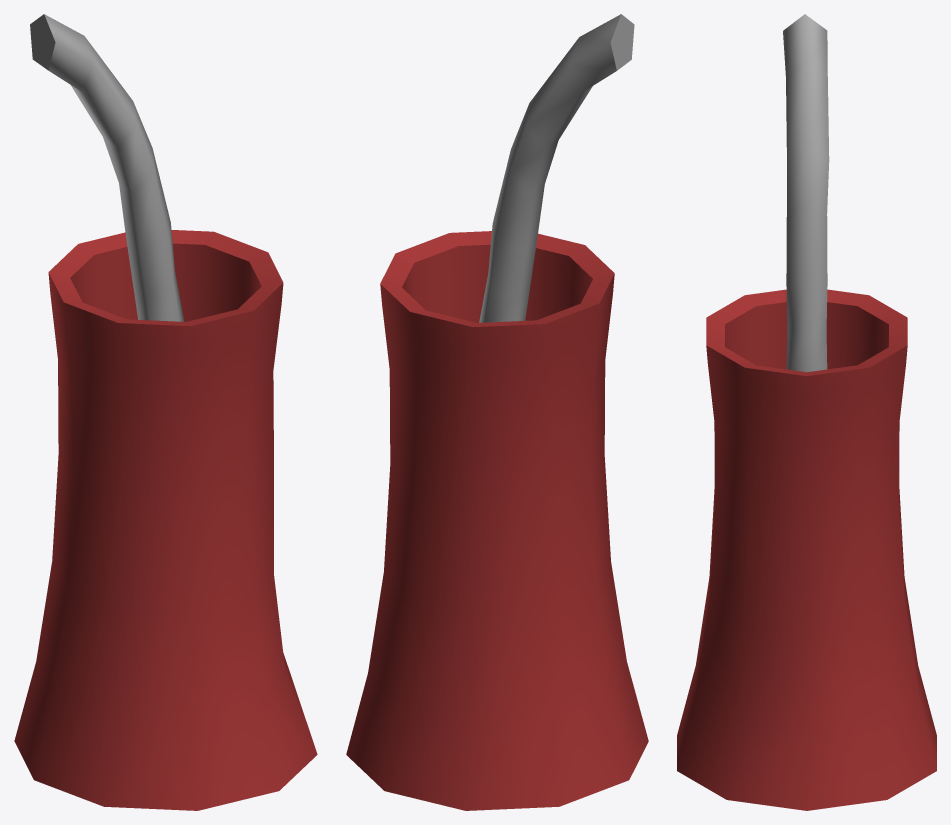
The model's file is firecrackerMedium.fbx.
3 renders of one model, left to right at view 1: azimuth 30°, elevation 25°; view 2: azimuth 150°, elevation 25°; view 3: azimuth 270°, elevation 25°, orthographic. The views are drawn at different scales.
Parts seen in each view (by area): view 1: pCylinder1, pasted__pCylinder2; view 2: pCylinder1, pasted__pCylinder2; view 3: pCylinder1, pasted__pCylinder2.
Boxes of the visible parts, left/top/right/bottom form: pCylinder1: left=14, top=230, right=317, bottom=810; pasted__pCylinder2: left=30, top=14, right=184, bottom=321; pCylinder1: left=346, top=231, right=648, bottom=810; pasted__pCylinder2: left=479, top=14, right=634, bottom=322; pCylinder1: left=677, top=289, right=936, bottom=810; pasted__pCylinder2: left=783, top=14, right=829, bottom=372.
Bounding box in the file's own units: 1.76 × 4.9 × 1.68.
